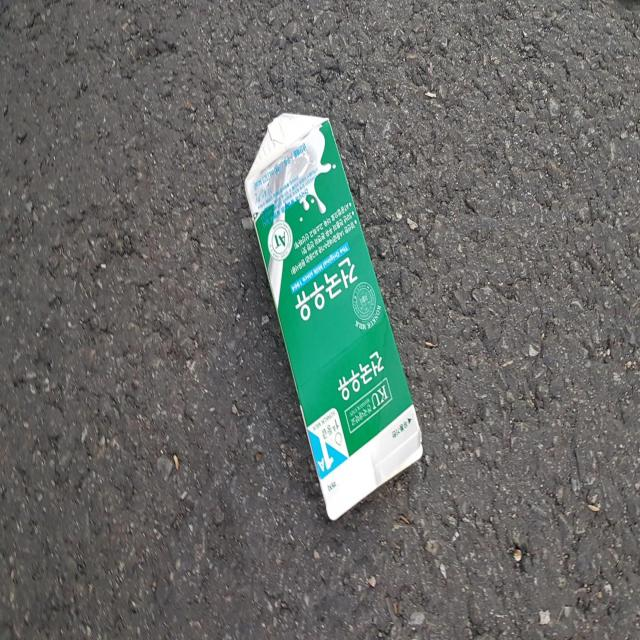paperpack: (245, 113, 423, 520)
